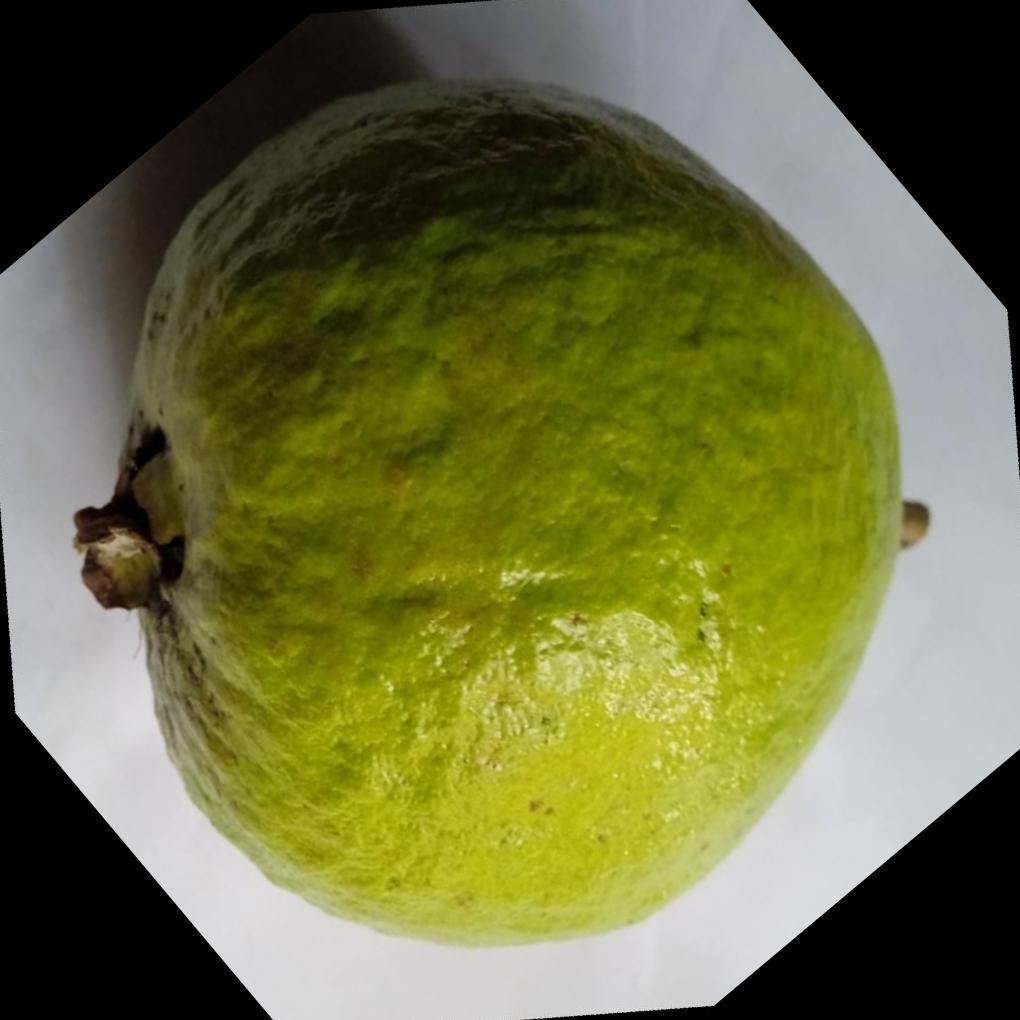FreshGuava: (70, 70, 905, 949)
